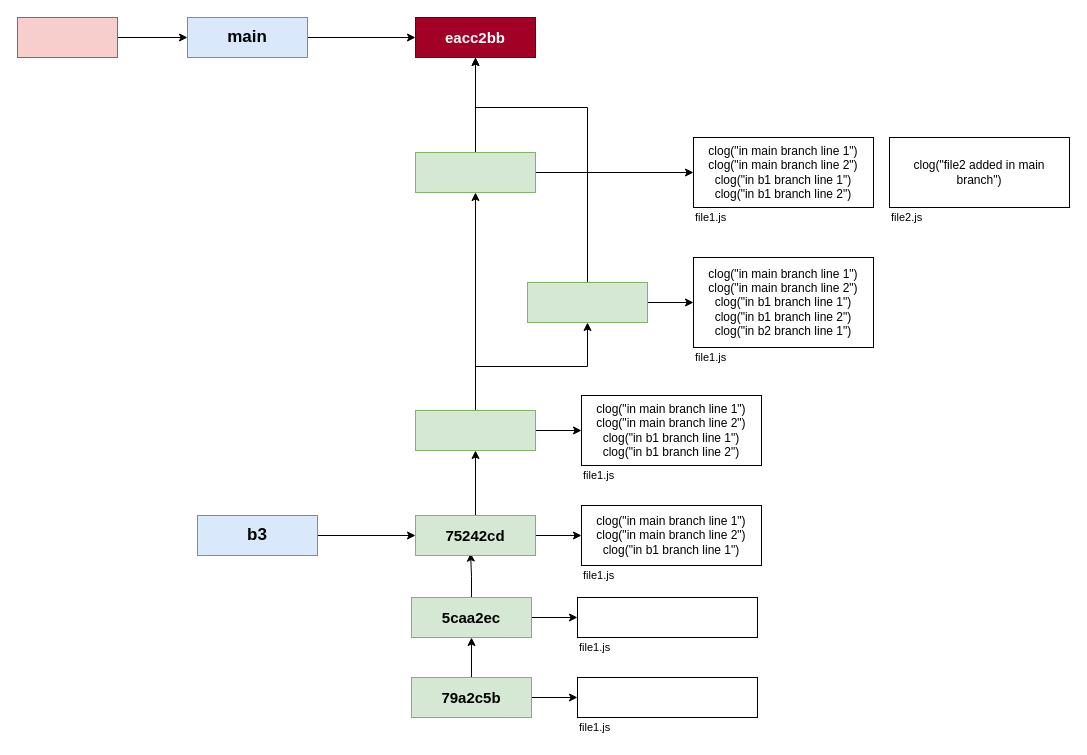
Some shapes in this 1087 by 755 pixel diagram are drawn without their labels. Here are the shapes that lost their labels. From the top down, the centre of each, then its label:
the point at 67,37: HEAD
the point at 475,172: 212f25d
the point at 587,302: 6c65e04
the point at 475,430: e036e46
the point at 667,617: clog("in main branch line 1") clog("in main branch line 2")
the point at 667,697: clog("in main branch")
